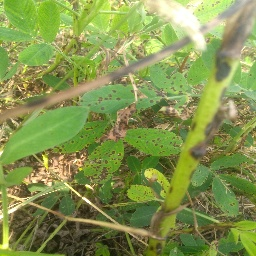GroundNut_Leaf: (1, 106, 89, 169), (125, 129, 180, 155), (90, 85, 135, 112), (148, 64, 189, 92), (90, 141, 123, 175), (211, 178, 239, 218), (36, 1, 61, 41), (5, 1, 35, 30), (211, 153, 252, 171), (110, 7, 135, 36), (17, 44, 55, 63), (129, 208, 156, 227), (192, 56, 209, 83), (180, 235, 203, 254), (128, 187, 155, 201), (1, 47, 6, 85)
